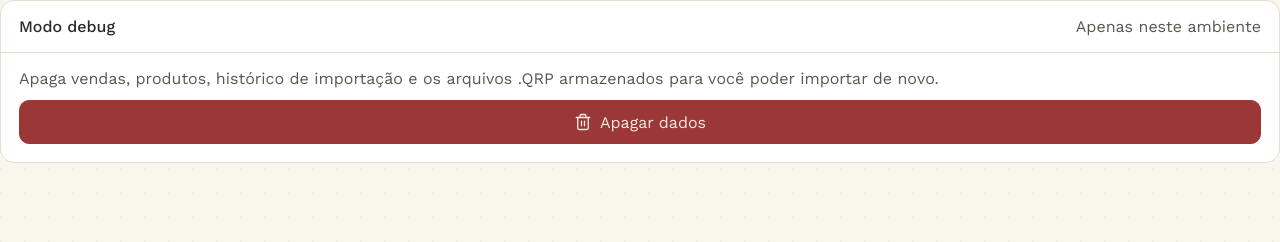
DebugResetPanel › shows Error message when reset fails
Step 1. Click the button "Apagar dados" → (640,122), box [19,100,1261,144]
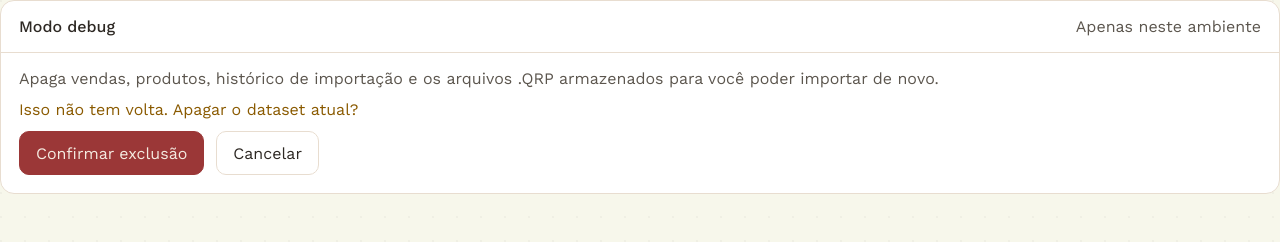
Step 2. Click the button "Confirmar exclusão" → (112,153), box [19,131,204,175]
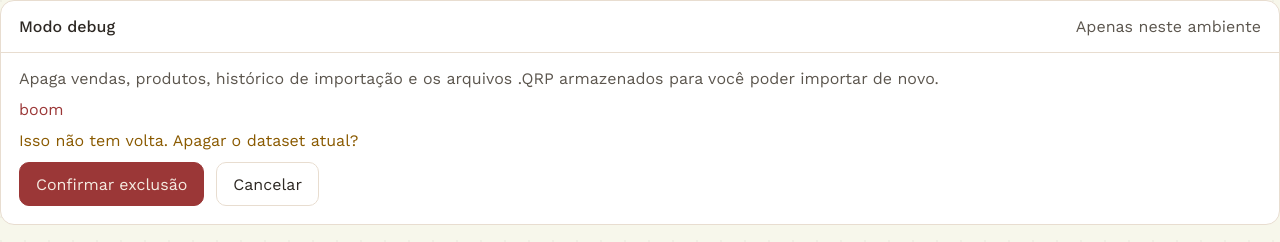
Expected: the text "boom" is shown, [19,100,64,119]
